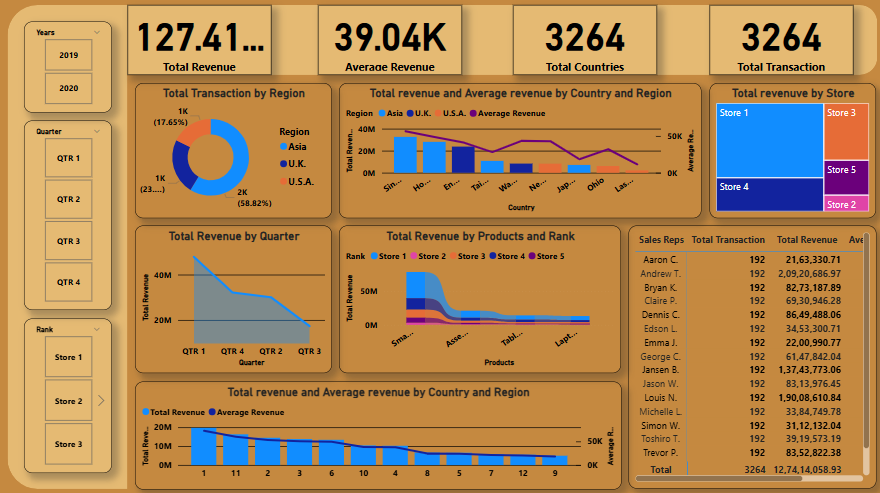

This screenshot's page, from the dashboard's own definition file:
{"tool":"powerbi","page":{"name":"Page 1","canvas":[1280,720],"ordinal":0},"visuals":[{"type":"shape","box":[11,9.6,174.3,701.2],"z":0},{"type":"shape","box":[175.6,9.6,1095,101.5],"z":1000},{"type":"card","fields":{"Values":["Measures (2).total_revenuve"]},"box":[185.2,9.6,208.6,101.5],"z":2000},{"type":"card","fields":{"Values":["Measures (2).Average_revenue"]},"box":[461.1,9.6,208.6,101.5],"z":3000},{"type":"card","fields":{"Values":["Measures (2).Total_countries"]},"box":[743.7,9.6,208.6,101.5],"z":4000},{"type":"card","fields":{"Values":["Measures (2).Total_transaction"]},"box":[1029.2,9.6,208.6,101.5],"z":5000},{"type":"donutChart","fields":{"Y":["Measures (2).Total_transaction"],"Category":["Sheet1.Region"]},"box":[194.9,122.1,285.4,196.2],"z":6000},{"type":"lineStackedColumnComboChart","title":"Total revenue and Average revenue by Country and Region","fields":{"Category":["Sheet1.Country"],"Y":["Measures (2).total_revenuve"],"Y2":["Measures (2).Average_revenue"],"Series":["Sheet1.Region"]},"box":[491.3,122.1,525.6,196.2],"z":7000},{"type":"treemap","title":"Total revenuve by Store","fields":{"Values":["Measures (2).total_revenuve"],"Group":["Sheet1.Rank"]},"box":[1029.2,122.1,241.5,196.2],"z":8000},{"type":"areaChart","fields":{"Y":["Measures (2).Total Revenue"],"Category":["Sheet1.Quarter"]},"box":[194.9,329.3,285.4,214.1],"z":9000},{"type":"ribbonChart","fields":{"Category":["Sheet1.Products"],"Y":["Measures (2).Total Revenue"],"Series":["Sheet1.Rank"]},"box":[491.3,329.3,408.9,214.1],"z":10000},{"type":"pivotTable","fields":{"Rows":["Sheet1.Sales Reps"],"Values":["Measures (2).Total Transaction","Measures (2).Total Revenue","Measures (2).Average Revenue"]},"box":[911.2,329.3,359.5,381.5],"z":11000},{"type":"lineStackedColumnComboChart","title":"Total revenue and Average revenue by Country and Region","fields":{"Y":["Measures (2).total_revenuve"],"Category":["Sheet1.Month"],"Y2":["Measures (2).Average Revenue"]},"box":[194.9,554.4,705.3,156.4],"z":12000},{"type":"slicer","fields":{"Values":["Sheet1.Years"]},"box":[35.7,32.9,127.6,131.7],"z":12001},{"type":"slicer","fields":{"Values":["Sheet1.Quarter"]},"box":[35.7,175.6,127.6,274.4],"z":12002},{"type":"slicer","fields":{"Values":["Sheet1.Rank"]},"box":[34.3,462.4,127.6,223.7],"z":12003}]}

Visuals, with their boxes in screenshot pixels (x1, y1, x2, y2), scaled from the page's 1280x720 canvas onto the 880x493 screenshot:
shape: [8, 7, 127, 487]
shape: [121, 7, 874, 76]
card - Measures (2).total_revenuve: [127, 7, 271, 76]
card - Measures (2).Average_revenue: [317, 7, 460, 76]
card - Measures (2).Total_countries: [511, 7, 655, 76]
card - Measures (2).Total_transaction: [708, 7, 851, 76]
donutChart - Measures (2).Total_transaction x Sheet1.Region: [134, 84, 330, 218]
"Total revenue and Average revenue by Country and Region" lineStackedColumnComboChart: [338, 84, 699, 218]
"Total revenuve by Store" treemap: [708, 84, 874, 218]
areaChart - Measures (2).Total Revenue x Sheet1.Quarter: [134, 225, 330, 372]
ribbonChart - Sheet1.Products x Measures (2).Total Revenue: [338, 225, 619, 372]
pivotTable - Sheet1.Sales Reps x Measures (2).Total Transaction: [626, 225, 874, 487]
"Total revenue and Average revenue by Country and Region" lineStackedColumnComboChart: [134, 380, 619, 487]
slicer - Sheet1.Years: [25, 23, 112, 113]
slicer - Sheet1.Quarter: [25, 120, 112, 308]
slicer - Sheet1.Rank: [24, 317, 111, 470]
